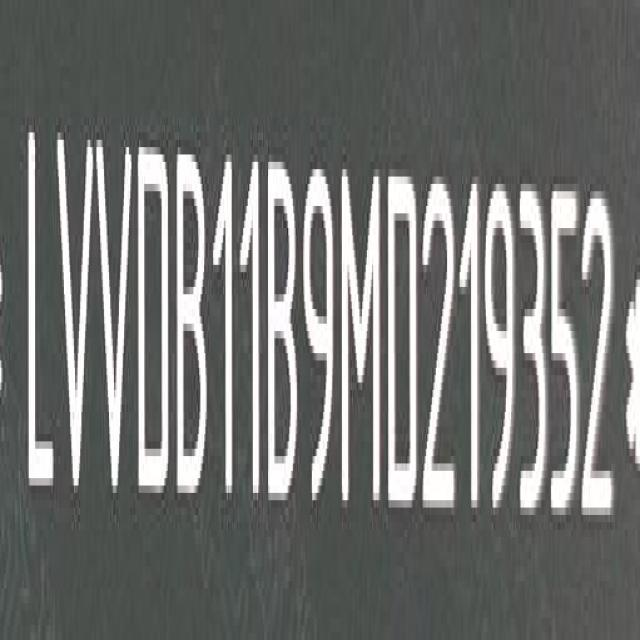1: (209, 150, 240, 518), (238, 150, 264, 507), (457, 166, 483, 518)
2: (581, 172, 616, 528), (422, 163, 457, 515)
3: (515, 169, 546, 504)
5: (550, 180, 579, 512)
9: (302, 163, 336, 518), (485, 166, 515, 512)
B: (174, 142, 210, 504), (266, 136, 298, 499)
D: (137, 131, 172, 493), (383, 155, 418, 504)
L: (25, 120, 55, 504)
M: (339, 164, 381, 504)
V: (54, 118, 95, 502), (96, 123, 134, 501)
